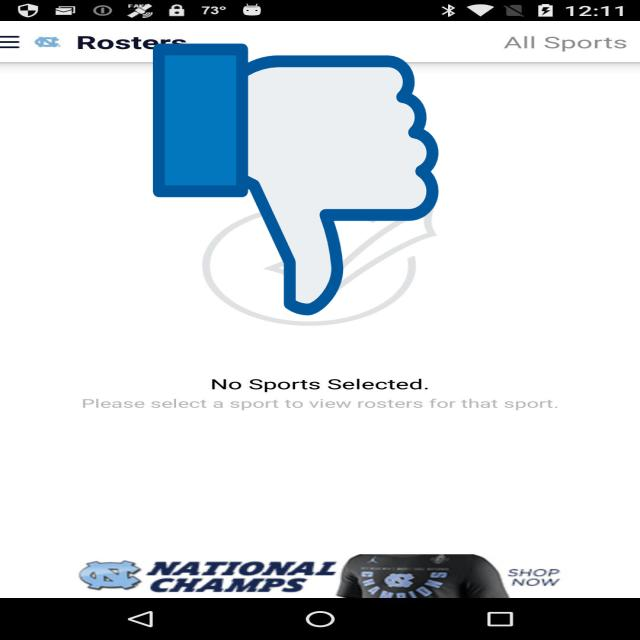obstruction: (153, 38, 438, 321)
